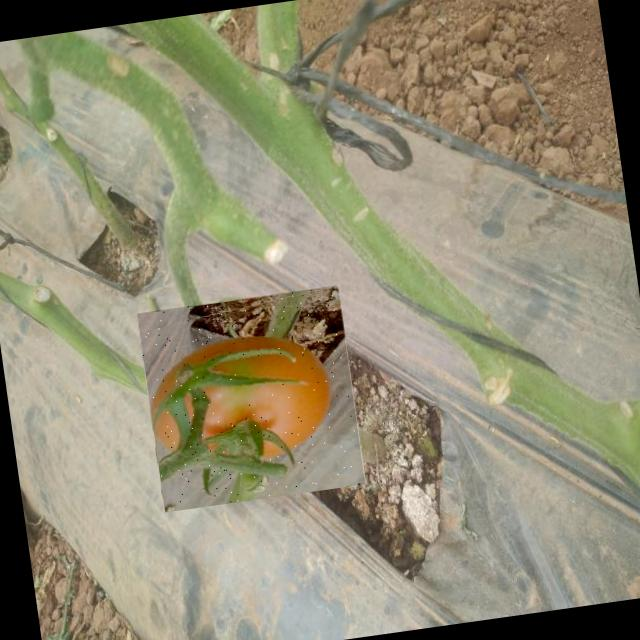Ripe Tomato: (137, 286, 366, 512)
